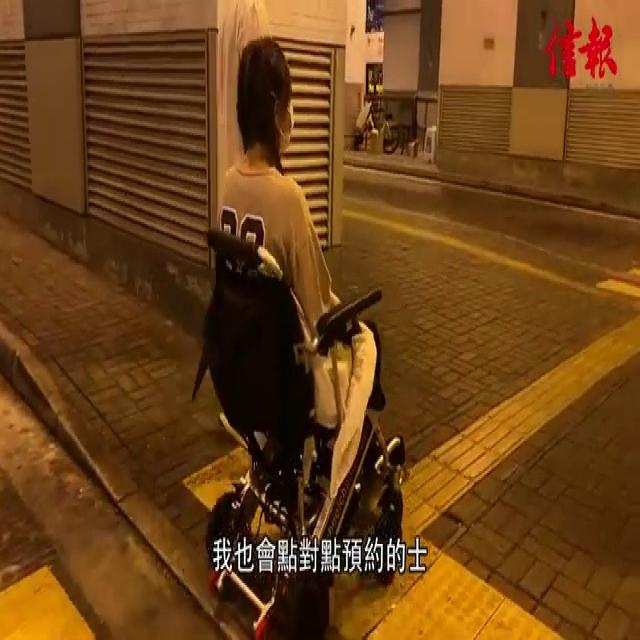wheelchairs: (190, 228, 413, 640)
